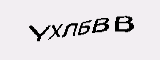Б: (77, 18, 92, 37)
В: (114, 13, 136, 34), (91, 15, 110, 33)
Л: (62, 19, 78, 38)
Х: (47, 21, 62, 38)
Ү: (25, 23, 51, 41)
